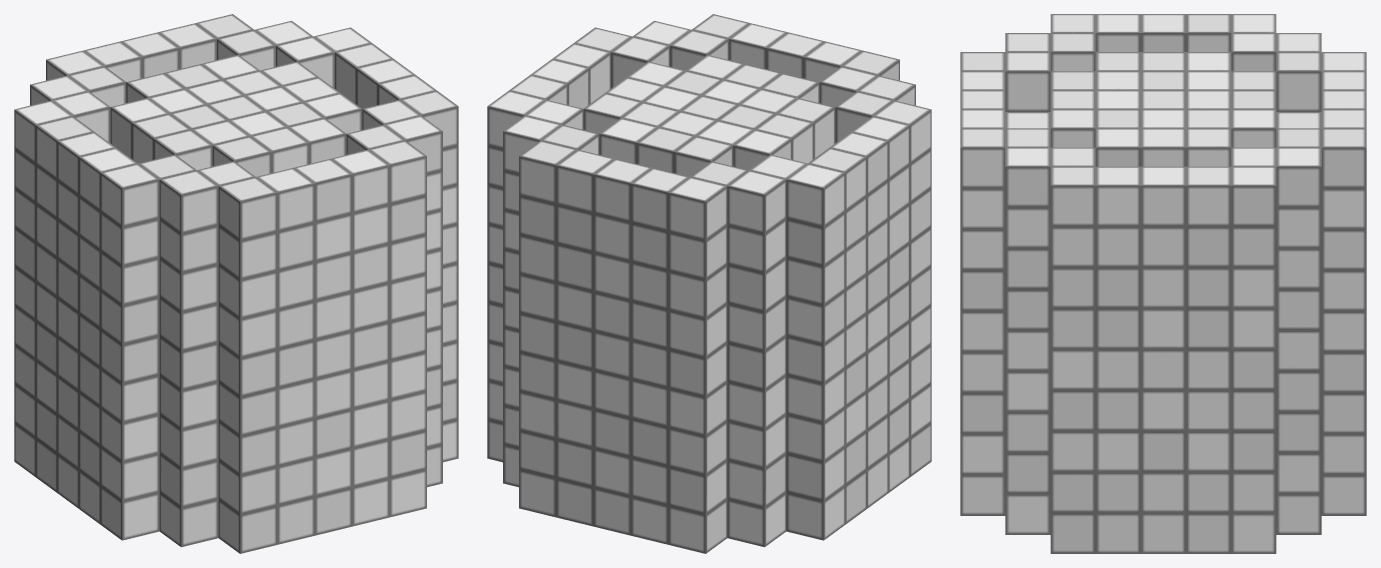
The model's file is drum_stool.glb.
The picture shows the model from 3 angles, left to right: view 1: azimuth 30°, elevation 25°; view 2: azimuth 150°, elevation 25°; view 3: azimuth 270°, elevation 25°; orthographic projection. The views are drawn at different scales.
Visible parts, largest first — view 1: drum_stool; view 2: drum_stool; view 3: drum_stool.
Boxes of the visible parts, box(x1,y1,x2,y2) form: drum_stool: box(14, 14, 458, 553); drum_stool: box(487, 14, 931, 553); drum_stool: box(960, 14, 1366, 553).
Bounding box in the file's own units: 0.45 × 0.45 × 0.45.
2 materials, 2 textured.
